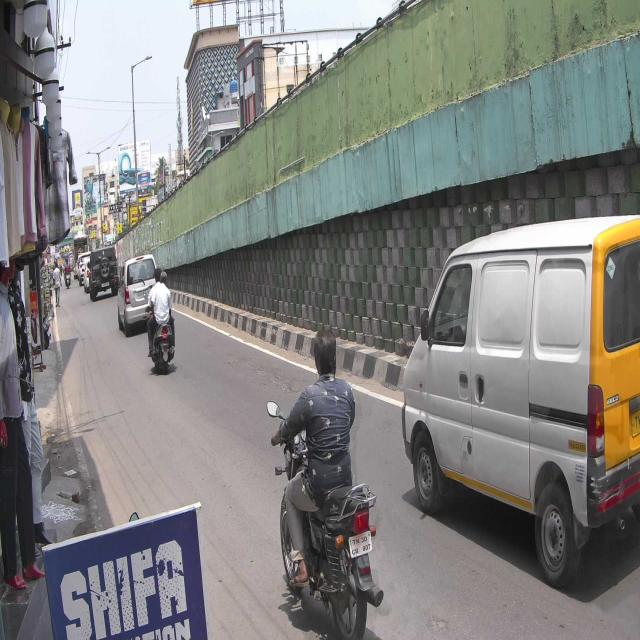single_rider: (268, 325, 386, 640)
